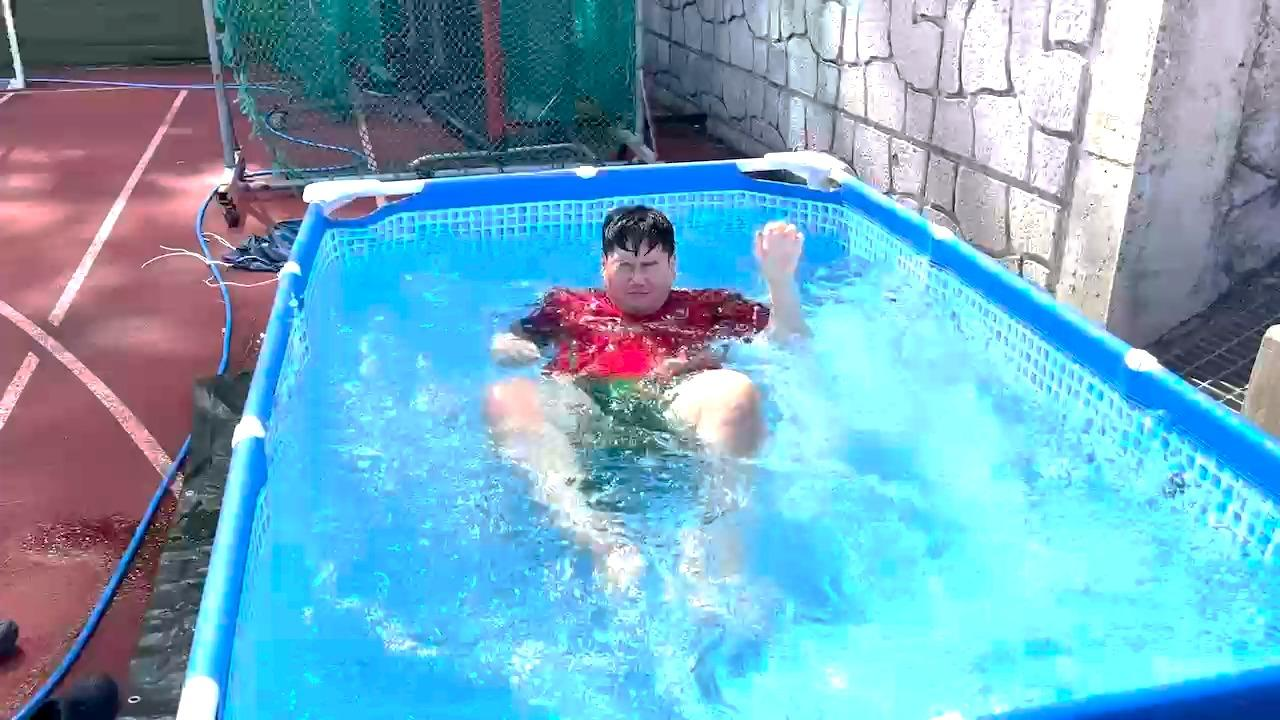Drowning: (493, 191, 818, 596)
